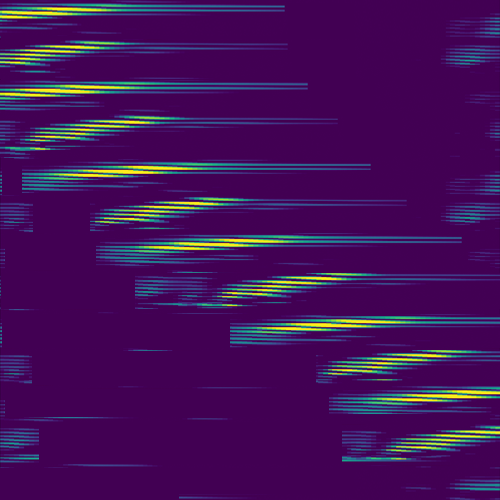semblance: (216, 266, 370, 310), (23, 113, 184, 155), (323, 345, 473, 383), (88, 195, 248, 229), (384, 422, 500, 462), (1, 35, 135, 69), (34, 160, 204, 182), (134, 232, 290, 255), (1, 79, 141, 101), (255, 316, 403, 336), (1, 4, 141, 23), (362, 385, 500, 404)
